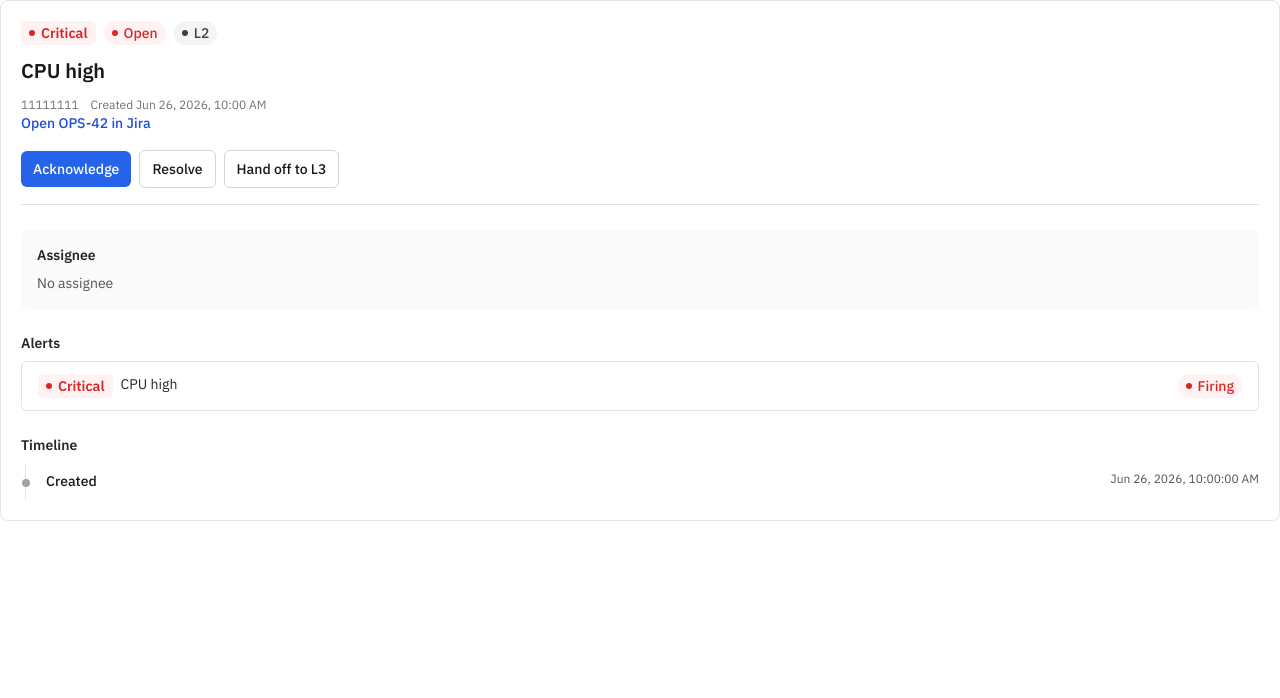
Test: IncidentDetail › keeps handoff notes after failure and prevents duplicate submissions while pending
Click the button "Hand off to L3".
click(282, 169)  # box [224,150,339,188]
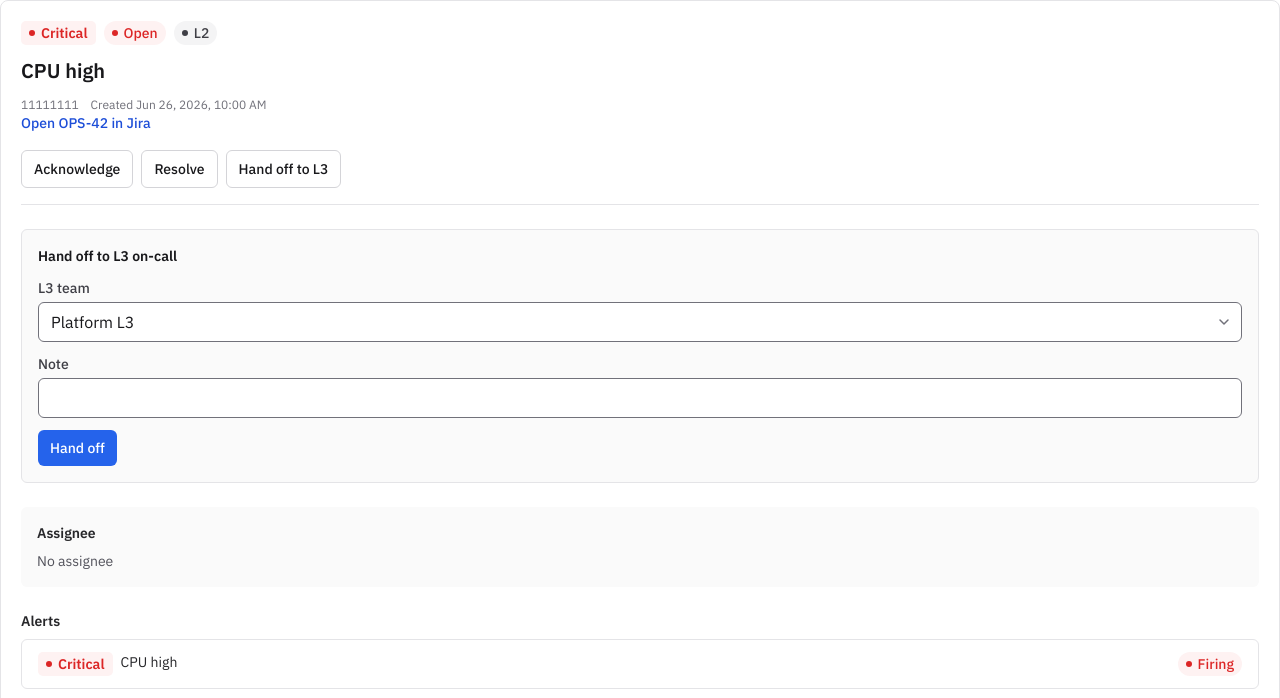
Type "Investigate database replication" into the field labelled "Note".
click(640, 398); type("Investigate database replication")  # box [38,378,1242,418]
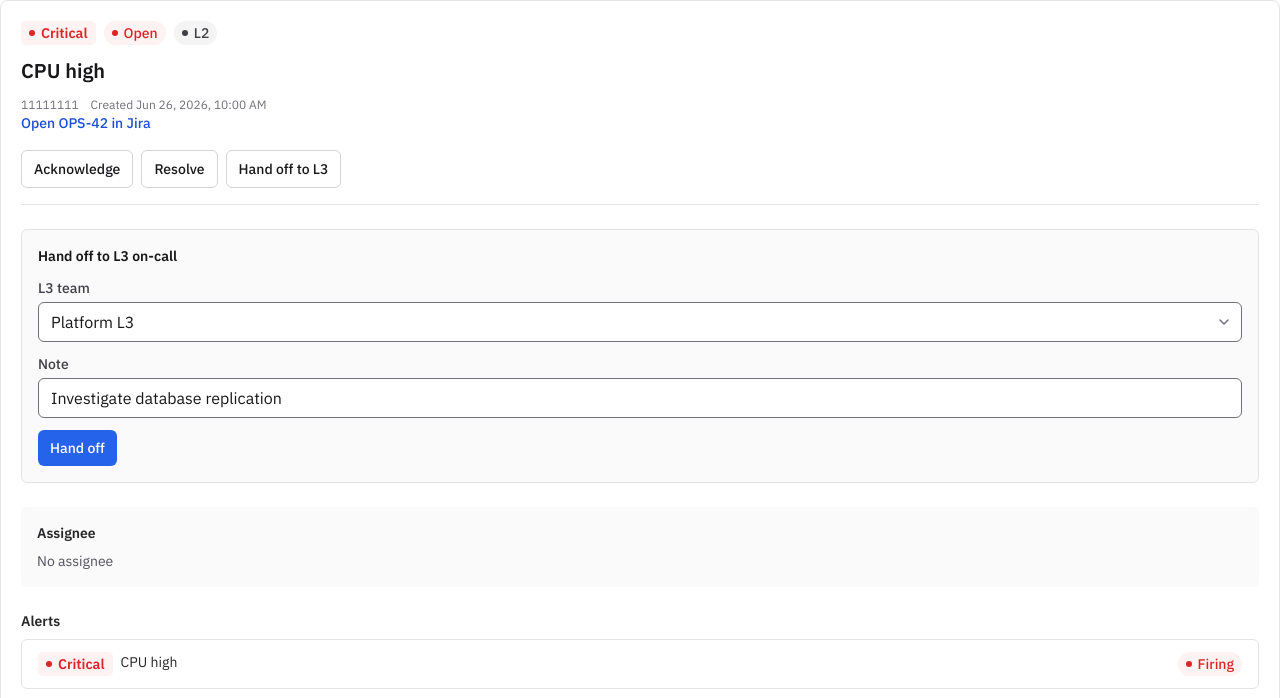
Click the button "Hand off".
click(77, 448)  # box [38,430,117,466]
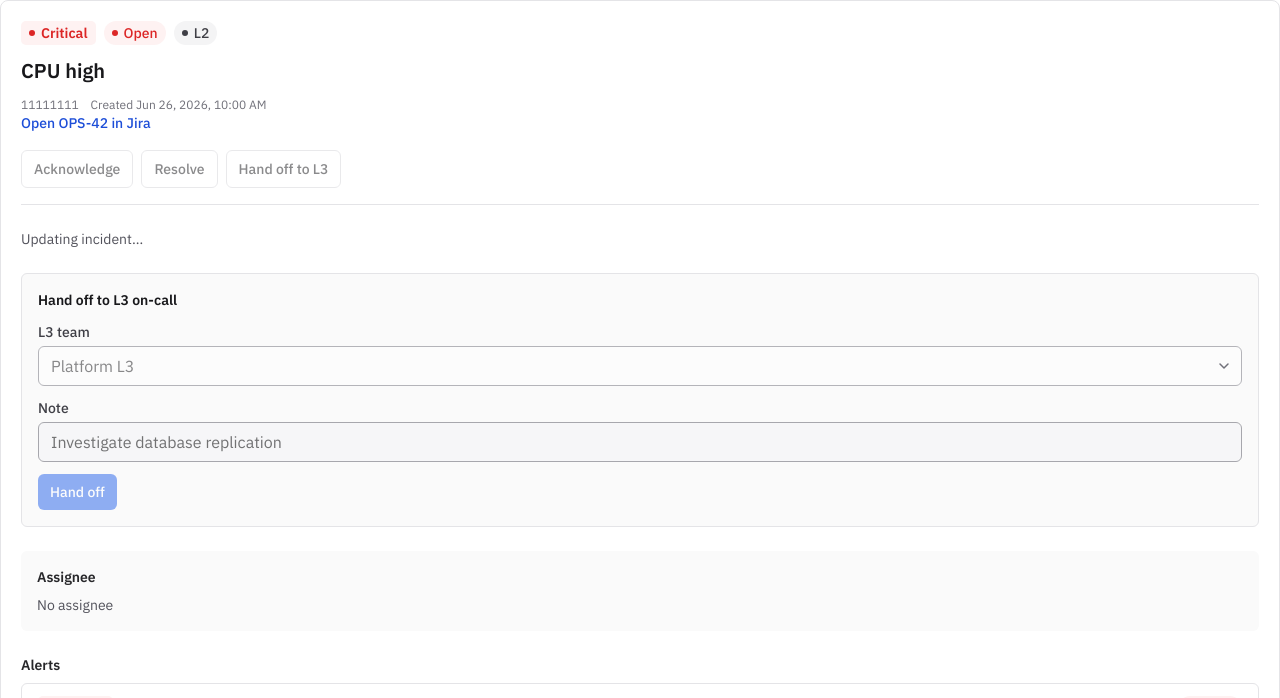
Now the button "Hand off" is disabled
Click the button "Hand off".
click(77, 492)  # box [38,474,117,510]
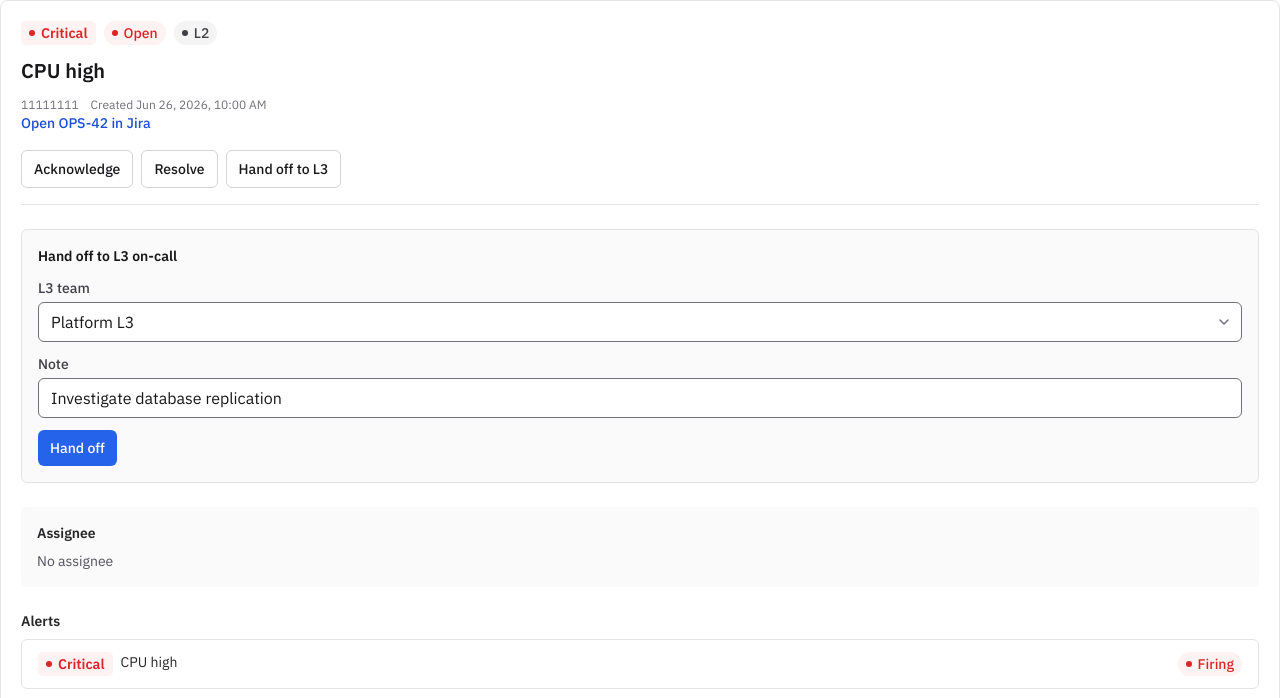
Now the button "Hand off" is enabled
Click the button "Hand off".
click(77, 448)  # box [38,430,117,466]
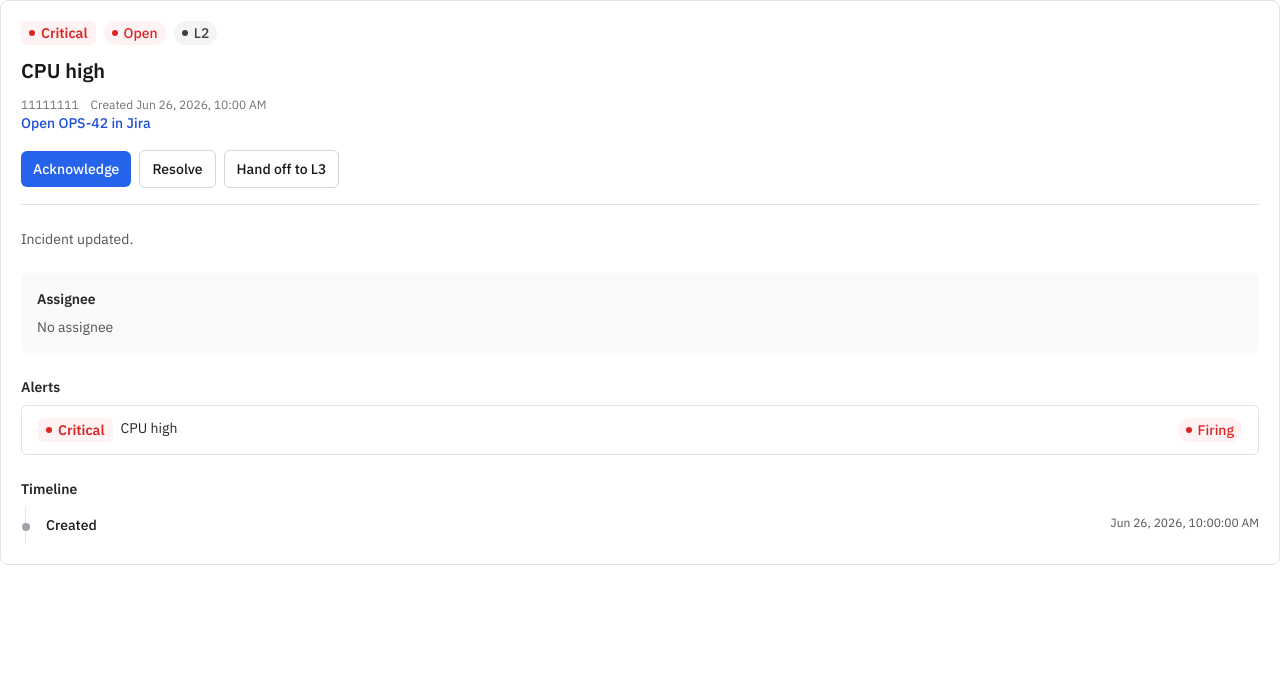
Now the label labelled "Note" is gone
Now the message reads "Incident updated.", box [21,230,133,248]
